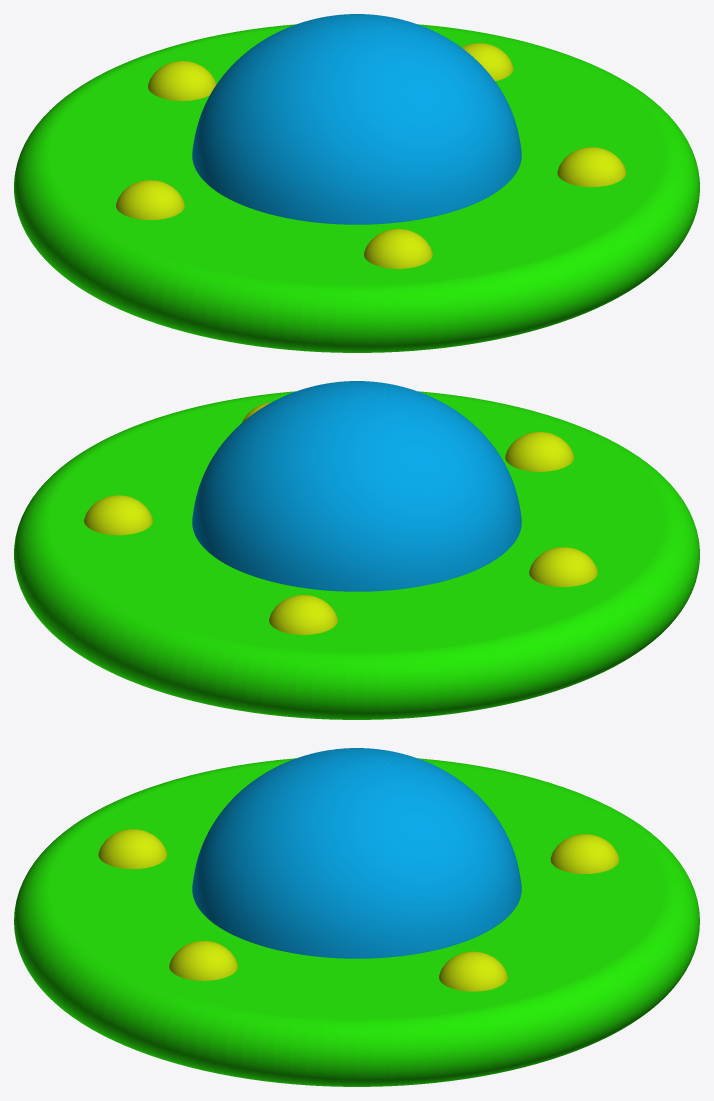
The model's file is soucoupe.glb.
The picture shows the model from 3 angles, top to bottom: view 1: azimuth 30°, elevation 25°; view 2: azimuth 150°, elevation 25°; view 3: azimuth 270°, elevation 25°; orthographic projection.
Visible parts, largest first — view 1: Sphere.005; view 2: Sphere.005; view 3: Sphere.005.
Boxes of the visible parts, x1,y1,x2,y2 form: Sphere.005: [14, 14, 699, 352]; Sphere.005: [14, 381, 699, 719]; Sphere.005: [14, 748, 699, 1086].
Size of the model in its own units: 22.29 by 7.02 by 22.29.
